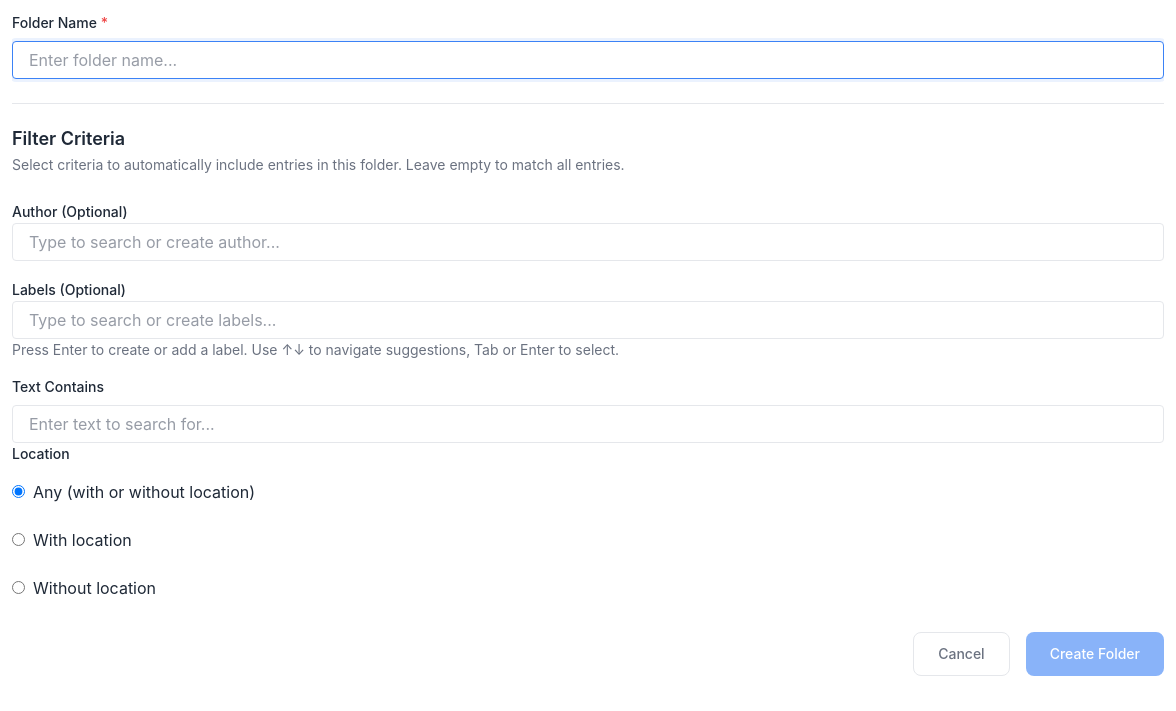
Scenario: FolderForm › should show error message when save fails
The width and height of the screenshot is (1176, 711).
Type "Test Folder" into the field labelled "Folder Name *" at (588, 60), box [12,41,1164,79]
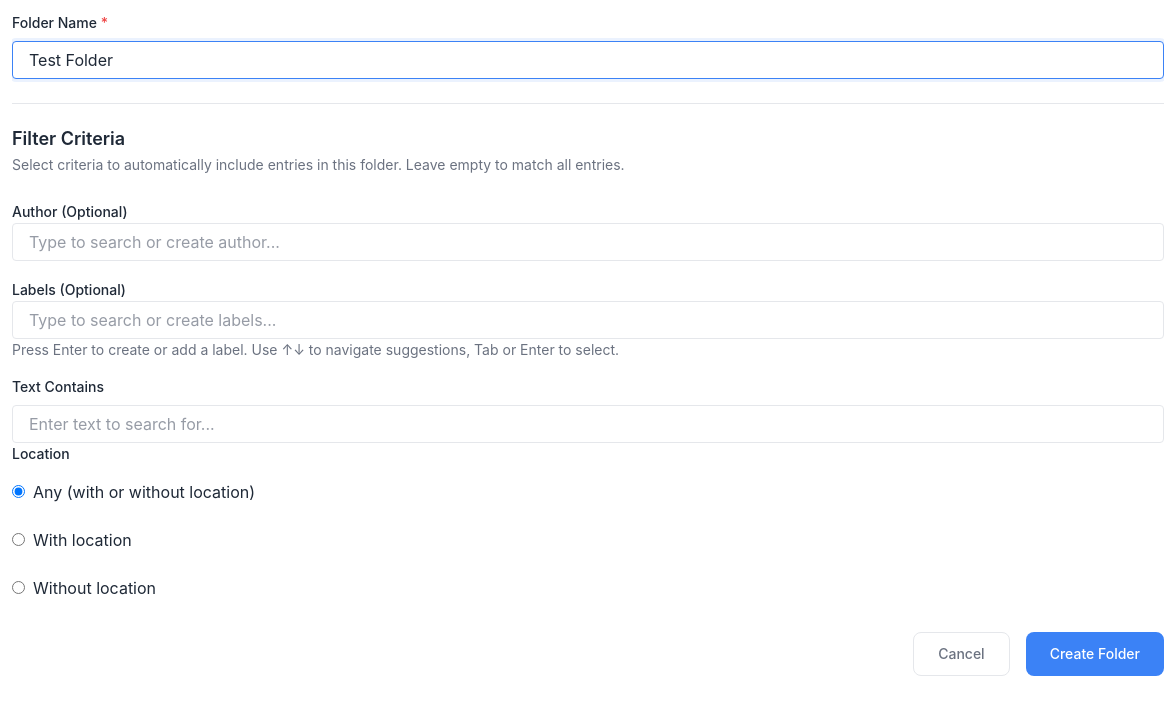
Click the button "Create Folder" at (1095, 654), box [1026,632,1164,676]
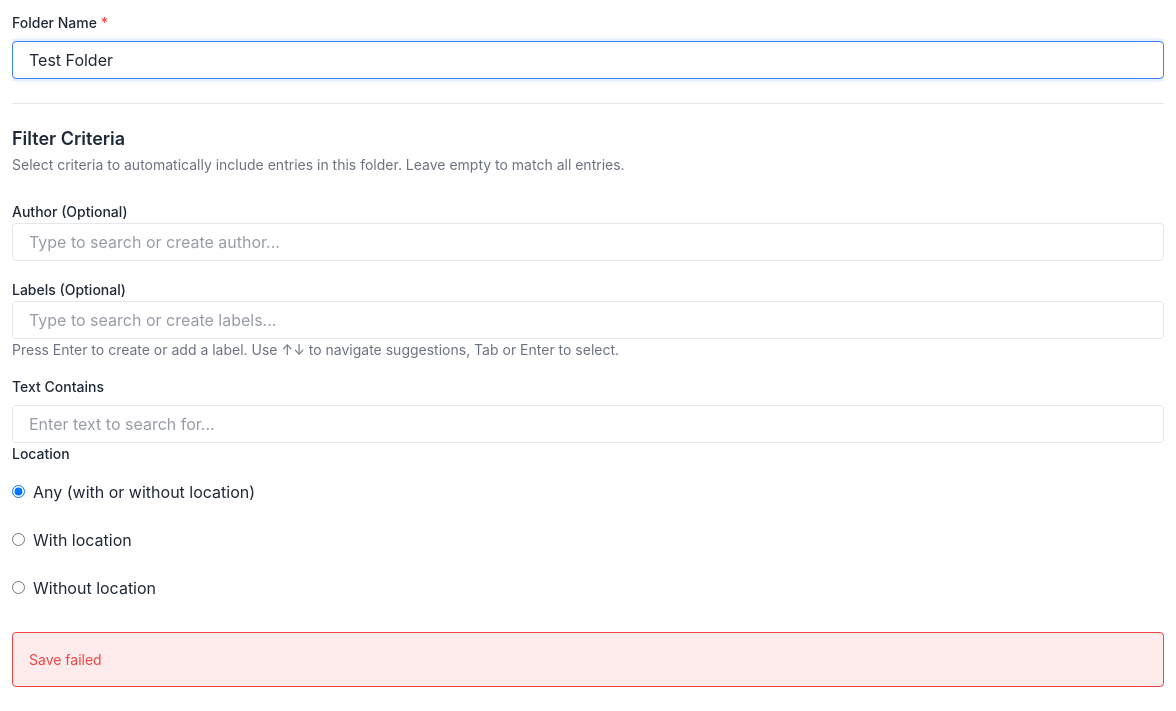
expect the text "Save failed" is shown: met, box [12,632,1164,687]
